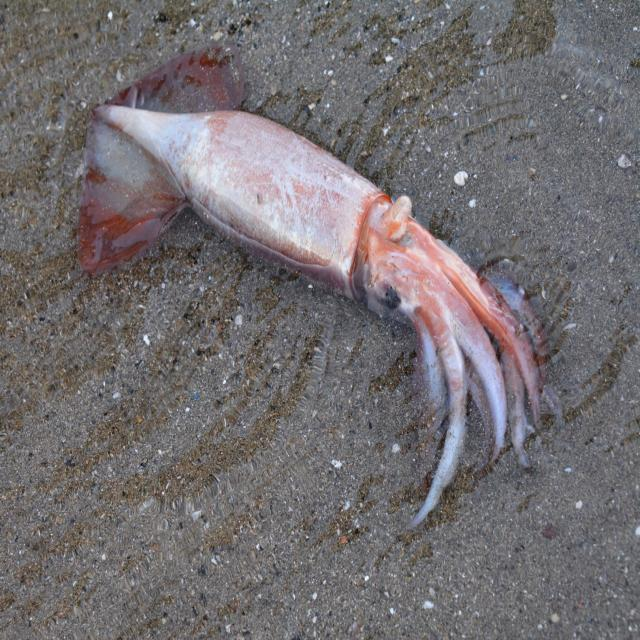SQUID: (62, 31, 571, 563)
